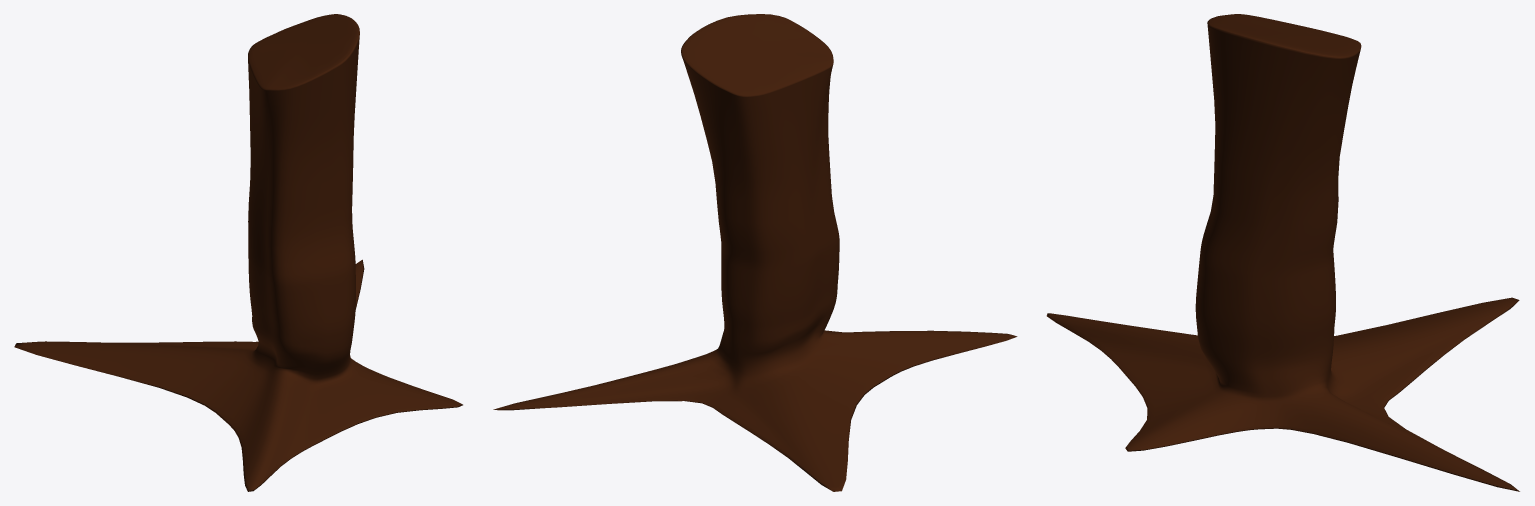
Rendered from Stump.fbx.
The picture shows the model from 3 angles, left to right: view 1: azimuth 30°, elevation 25°; view 2: azimuth 150°, elevation 25°; view 3: azimuth 270°, elevation 25°; orthographic projection. The views are drawn at different scales.
Visible parts, largest first — view 1: pCube10; view 2: pCube10; view 3: pCube10.
Part boxes in pixels (<box>): pCube10: <box>14,14,462,491</box>; pCube10: <box>493,14,1017,491</box>; pCube10: <box>1046,14,1519,491</box>.
Size of the model in its own units: 5.03 by 4.74 by 5.2.
